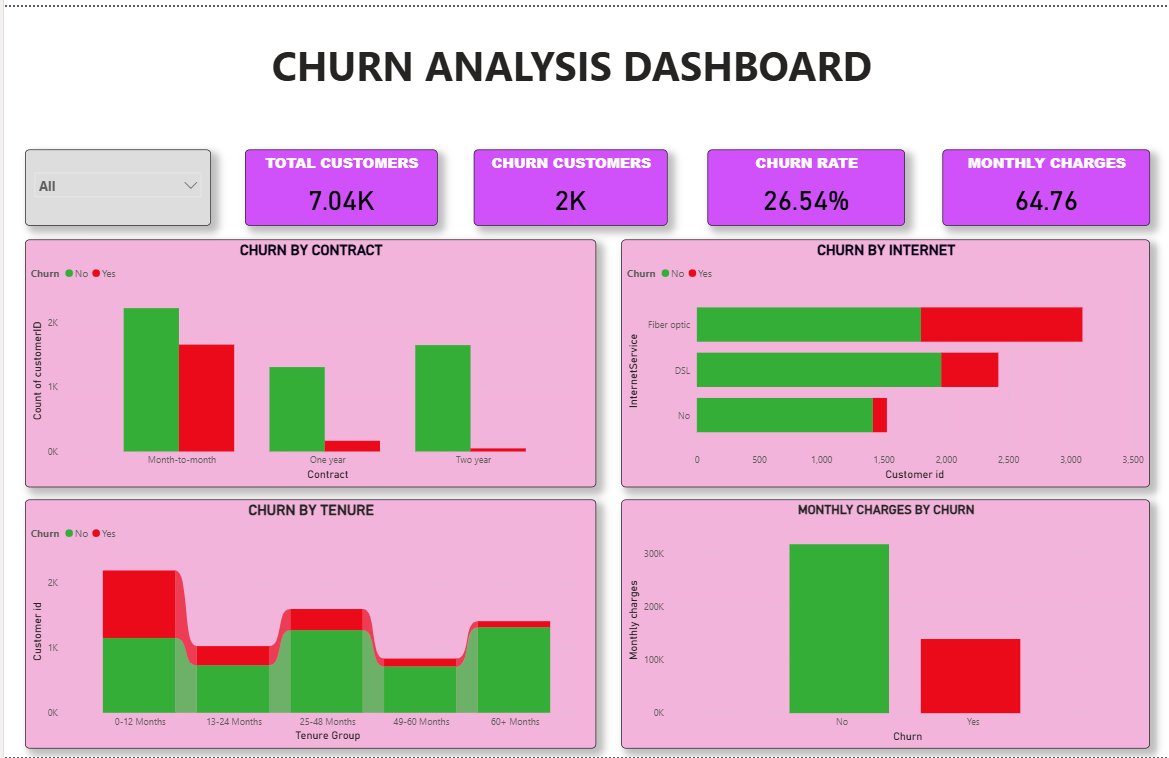

What the dashboard file says about the page in this screenshot:
{"tool":"powerbi","page":{"name":"Page 1","canvas":[1600,1000],"ordinal":0},"visuals":[{"type":"card","title":"TOTAL CUSTOMERS","fields":{"Values":["CountNonNull(telco_churn_cleaned.customerID)"]},"box":[326.7,190,256.7,101.7],"z":0},{"type":"card","title":"CHURN CUSTOMERS","fields":{"Values":["telco_churn_cleaned.Churn Customers"]},"box":[631.7,190,258.3,101.7],"z":1000},{"type":"card","title":"CHURN RATE","fields":{"Values":["telco_churn_cleaned.Churn Rate"]},"box":[943.3,190,263.3,101.7],"z":2000},{"type":"card","title":" MONTHLY CHARGES","fields":{"Values":["Avg(telco_churn_cleaned.MonthlyCharges)"]},"box":[1256.7,190,276.7,101.7],"z":3000},{"type":"clusteredColumnChart","title":"CHURN BY CONTRACT","fields":{"Series":["telco_churn_cleaned.Churn"],"Category":["telco_churn_cleaned.Contract"],"Y":["CountNonNull(telco_churn_cleaned.customerID)"]},"box":[33.3,310,761.7,330],"z":4000},{"type":"barChart","title":"CHURN BY INTERNET","fields":{"Series":["telco_churn_cleaned.Churn"],"Category":["telco_churn_cleaned.InternetService"],"Y":["CountNonNull(telco_churn_cleaned.customerID)"]},"box":[828.3,310,705,330],"z":5000},{"type":"columnChart","title":"CHURN BY TENURE","fields":{"Series":["telco_churn_cleaned.Churn"],"Y":["CountNonNull(telco_churn_cleaned.customerID)"],"Category":["telco_churn_cleaned.Tenure Group"]},"box":[33.3,656.7,761.7,331.7],"z":5001},{"type":"columnChart","title":"MONTHLY CHARGES BY CHURN","fields":{"Category":["telco_churn_cleaned.Churn"],"Y":["Sum(telco_churn_cleaned.MonthlyCharges)"]},"box":[828.3,656.7,705,331.7],"z":5002},{"type":"slicer","fields":{"Values":["telco_churn_cleaned.gender","telco_churn_cleaned.Contract","telco_churn_cleaned.InternetService"]},"box":[33.3,190,248.3,101.7],"z":5003},{"type":"textbox","box":[293.3,36.7,938.3,95],"z":5004}]}

Visuals, with their boxes in screenshot pixels (x1, y1, x2, y2):
"TOTAL CUSTOMERS" card: Rect(244, 148, 436, 224)
"CHURN CUSTOMERS" card: Rect(472, 148, 665, 224)
"CHURN RATE" card: Rect(705, 148, 901, 224)
" MONTHLY CHARGES" card: Rect(939, 148, 1145, 224)
"CHURN BY CONTRACT" clusteredColumnChart: Rect(25, 238, 594, 484)
"CHURN BY INTERNET" barChart: Rect(619, 238, 1145, 484)
"CHURN BY TENURE" columnChart: Rect(25, 497, 594, 744)
"MONTHLY CHARGES BY CHURN" columnChart: Rect(619, 497, 1145, 744)
slicer - telco_churn_cleaned.gender x telco_churn_cleaned.Contract: Rect(25, 148, 210, 224)
textbox: Rect(219, 34, 920, 104)
